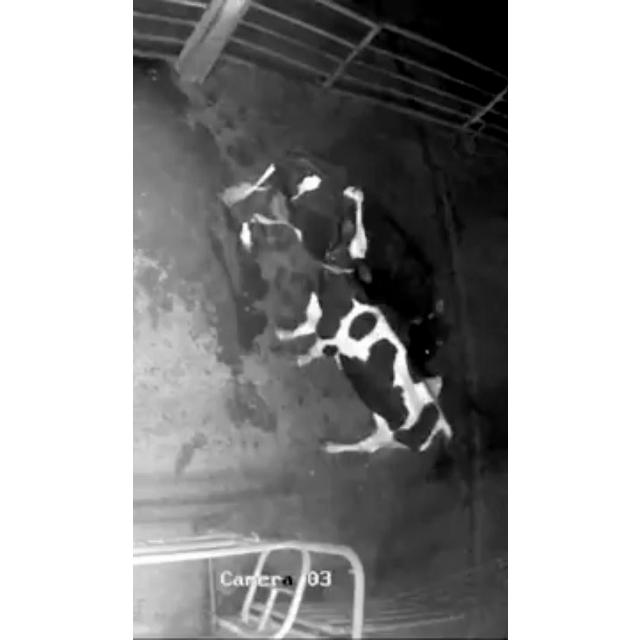propping: (294, 175, 396, 307)
